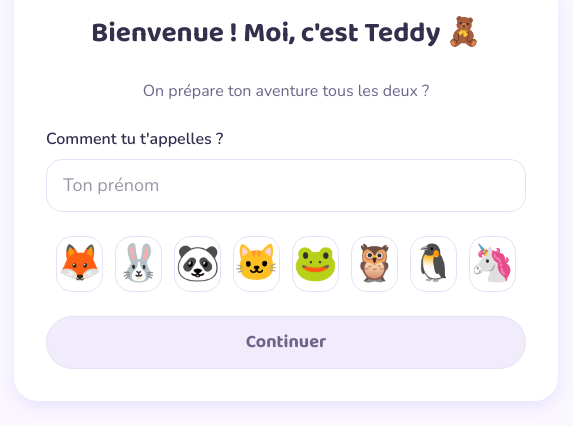
Test: OnboardingFlow — CTA désactivé : contraste composité peint (#240/#226) › « Continuer » ACTIF : registre accent plein (texte inverse sur accent), pas le fond désactivé
Note: Saisir prénom + avatar → « Continuer » ACTIF.
In the field: (286, 186) [46,159,526,212], type "Léa"
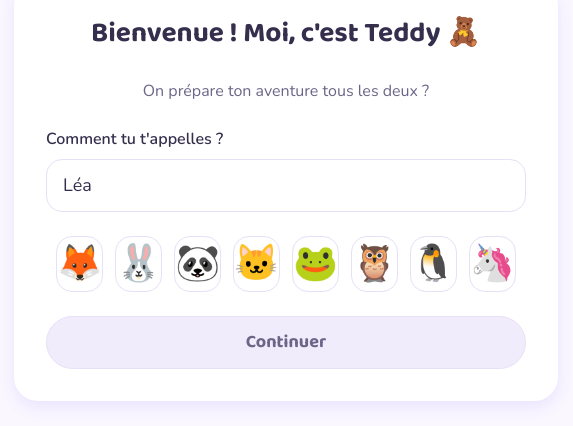
Click the button named "Portrait renard": (80, 264) [56,236,103,292]
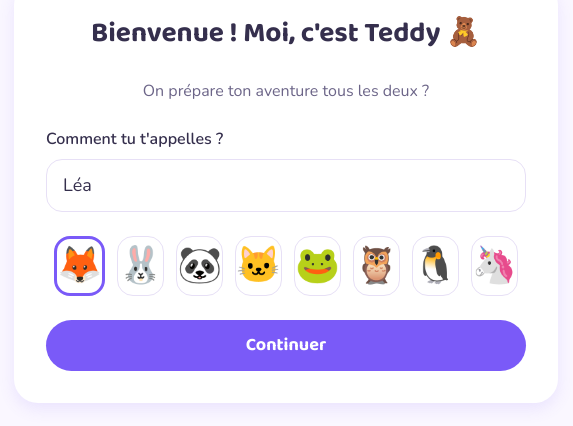
Now the button "Continuer" is enabled, box [46,320,526,371]
